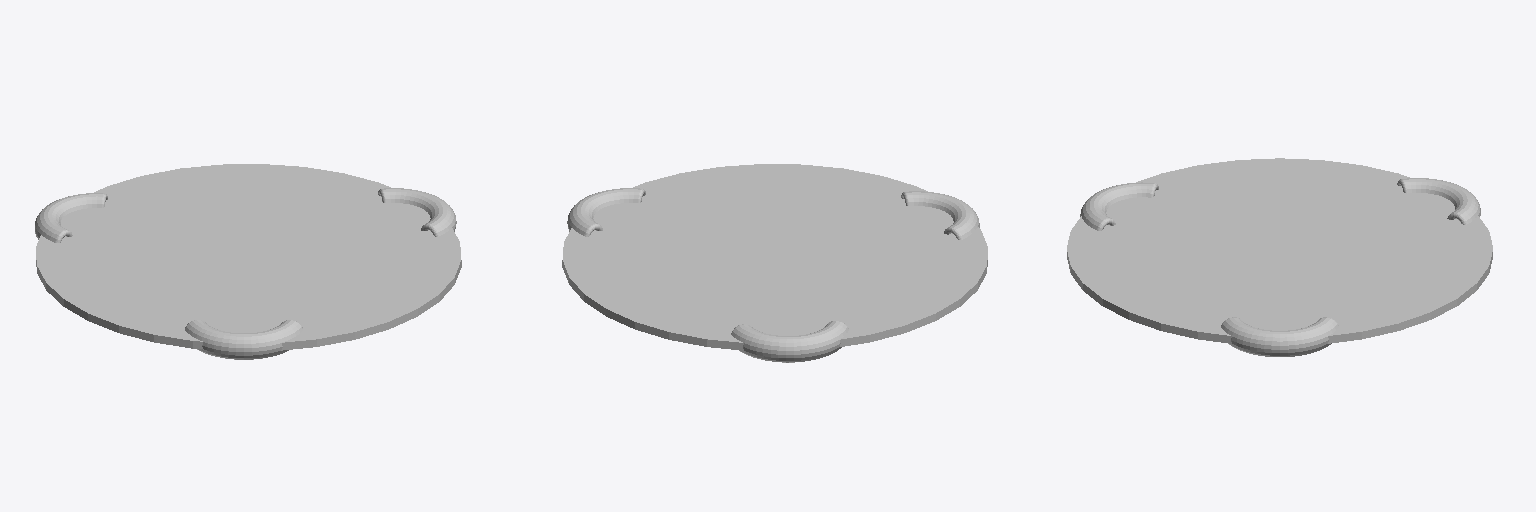
Rendered from noodlesgroup1.obj.
3 views of the same model, side by side, from view 1: azimuth 30°, elevation 25°; view 2: azimuth 150°, elevation 25°; view 3: azimuth 270°, elevation 25° (orthographic).
Visible parts, largest first — view 1: Cylinder, noodle3_pPipe1.002, noodle2_pPipe1.001, noodle1_pPipe1; view 2: Cylinder, noodle2_pPipe1.001, noodle1_pPipe1, noodle3_pPipe1.002; view 3: Cylinder, noodle1_pPipe1, noodle2_pPipe1.001, noodle3_pPipe1.002.
Part boxes in pixels (x1,y1,x2,y2): Cylinder: (36,164,461,350); noodle3_pPipe1.002: (185,320,302,359); noodle2_pPipe1.001: (35,193,107,242); noodle1_pPipe1: (378,188,456,236); Cylinder: (562,164,987,350); noodle2_pPipe1.001: (731,321,848,362); noodle1_pPipe1: (567,188,645,236); noodle3_pPipe1.002: (901,191,979,239); Cylinder: (1067,158,1492,343); noodle1_pPipe1: (1221,317,1338,356); noodle2_pPipe1.001: (1397,178,1480,224); noodle3_pPipe1.002: (1080,182,1158,230).
Bounding box in the file's own units: 16.51 × 1 × 15.87.